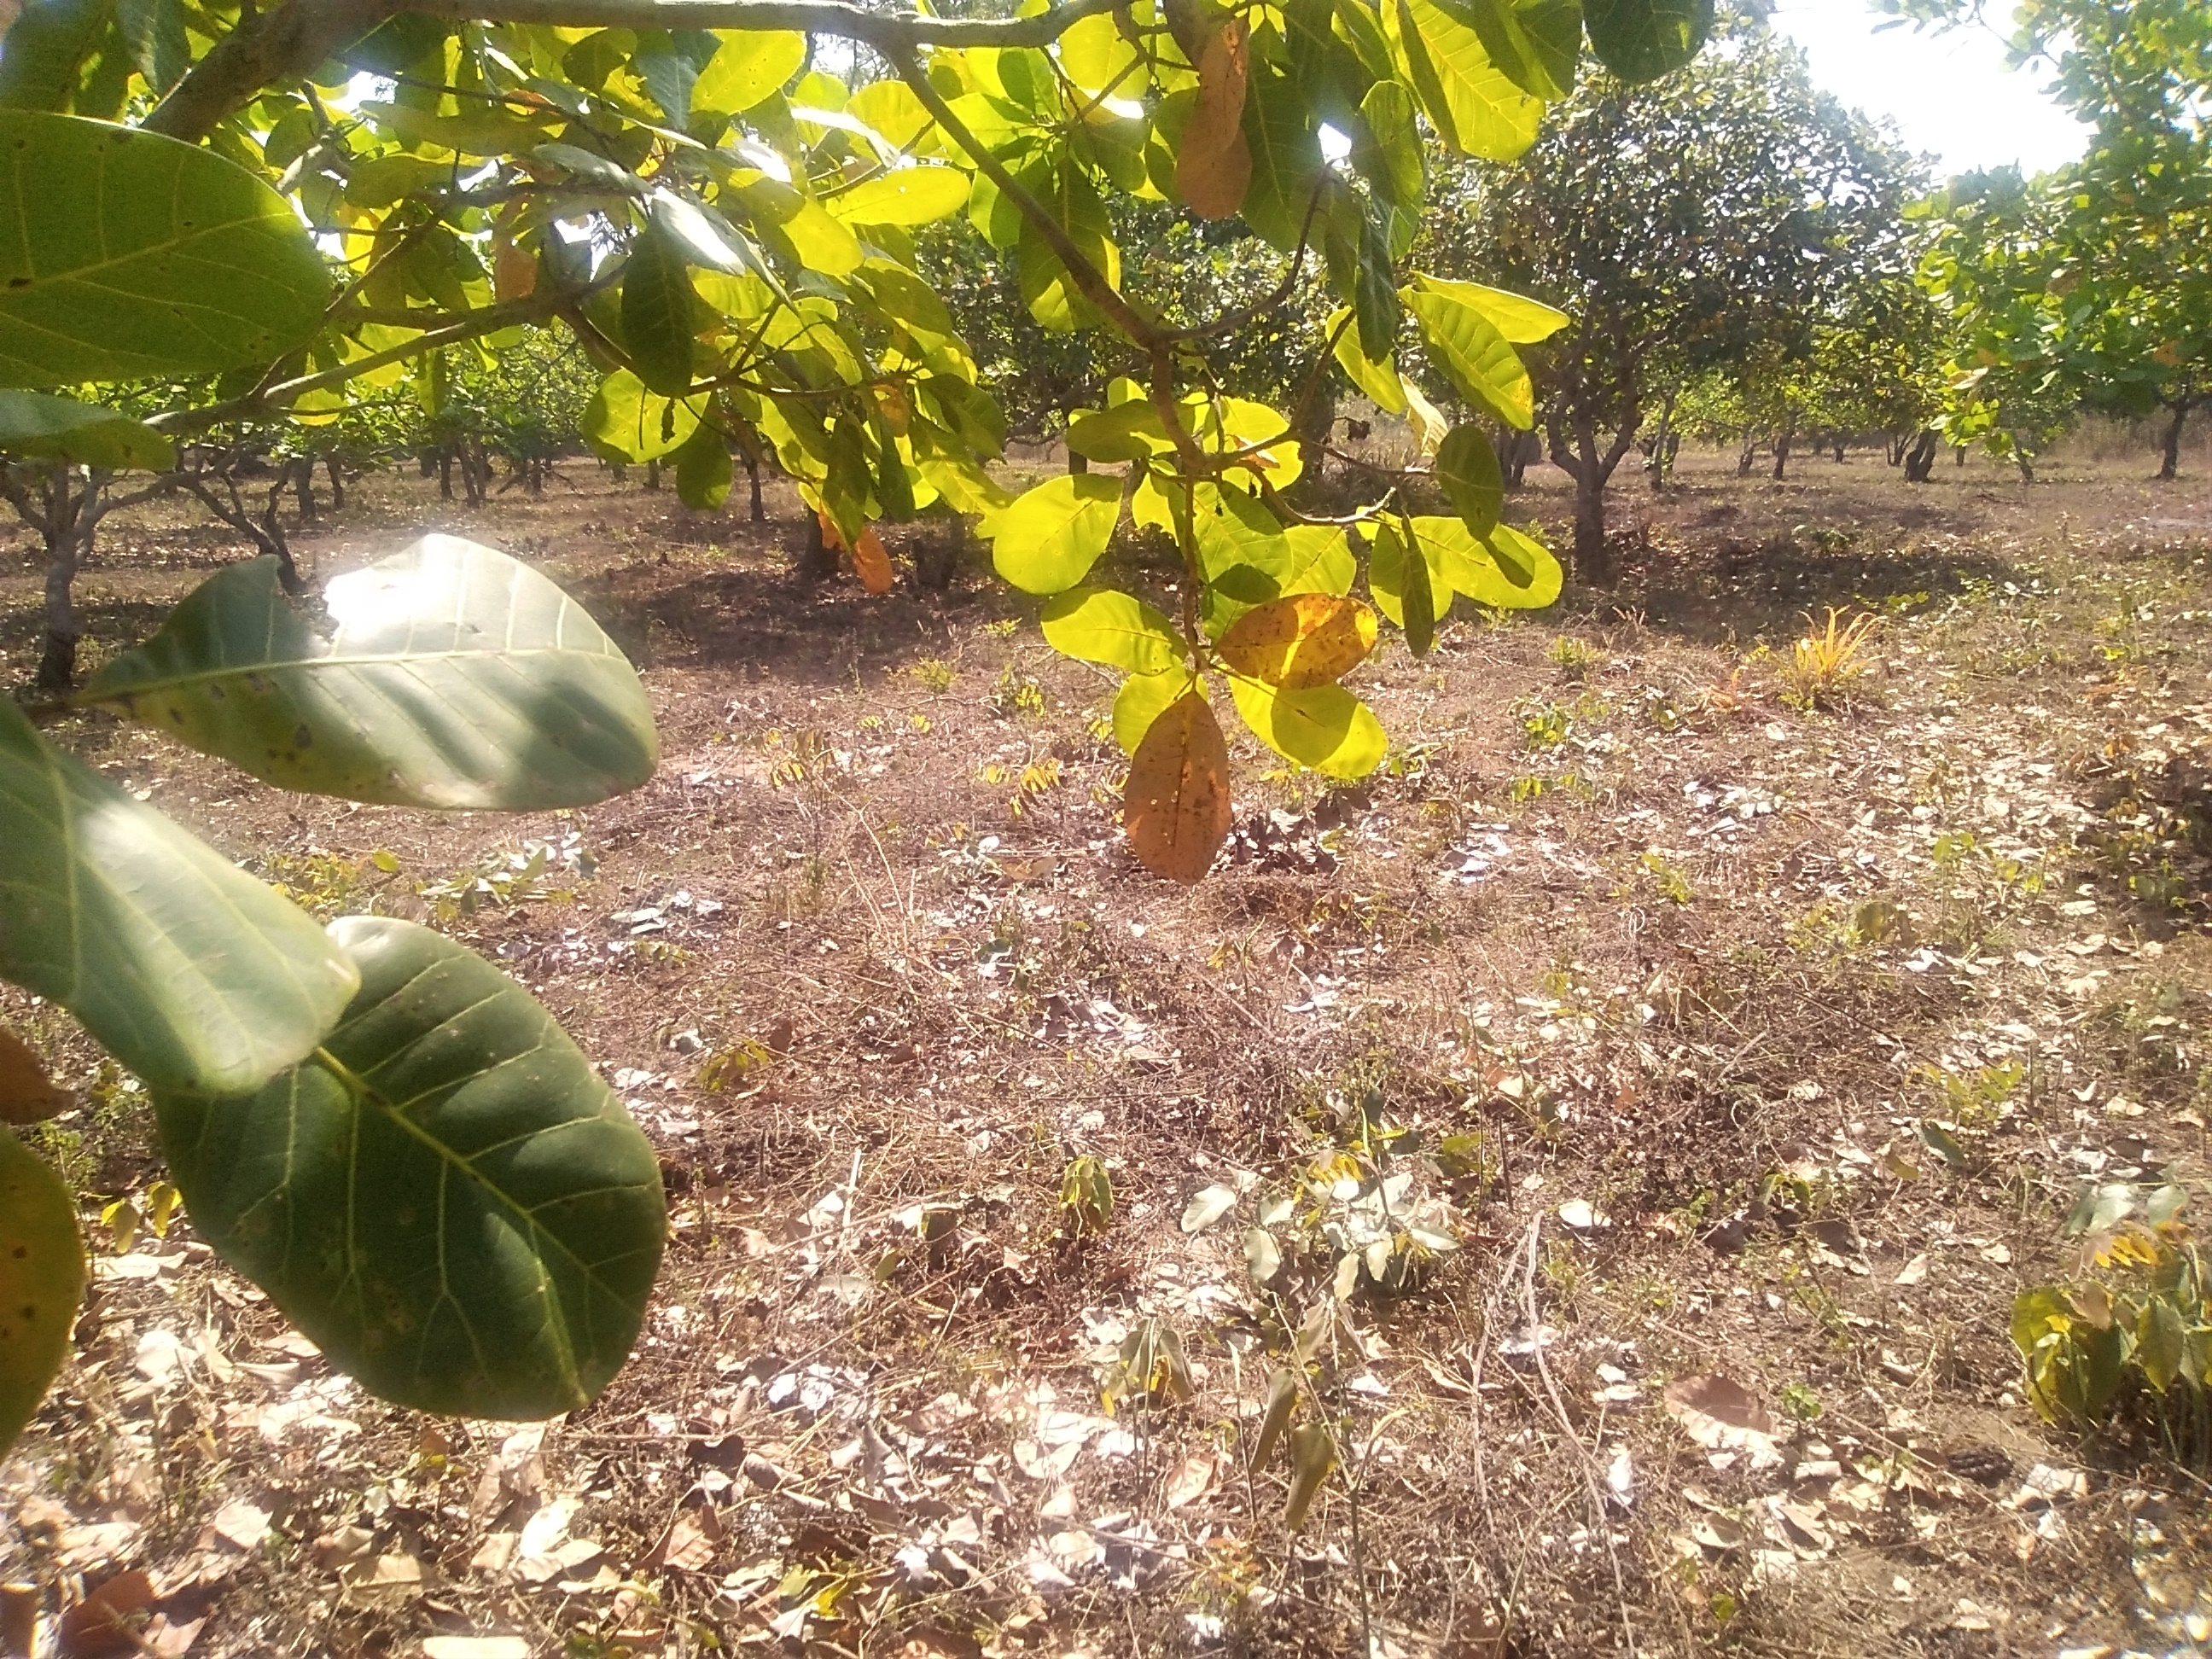Anthracnose: (232, 894, 683, 1441), (99, 528, 679, 812), (1125, 692, 1244, 894), (1224, 596, 1385, 678)
